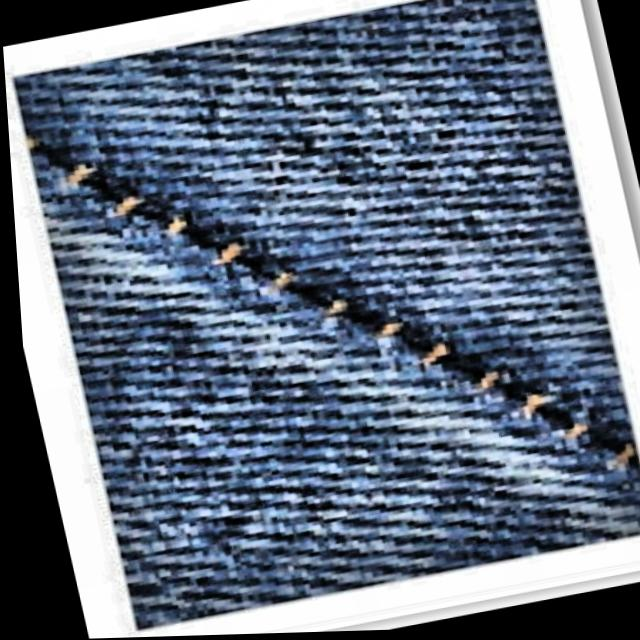seam: (26, 36, 635, 578)
